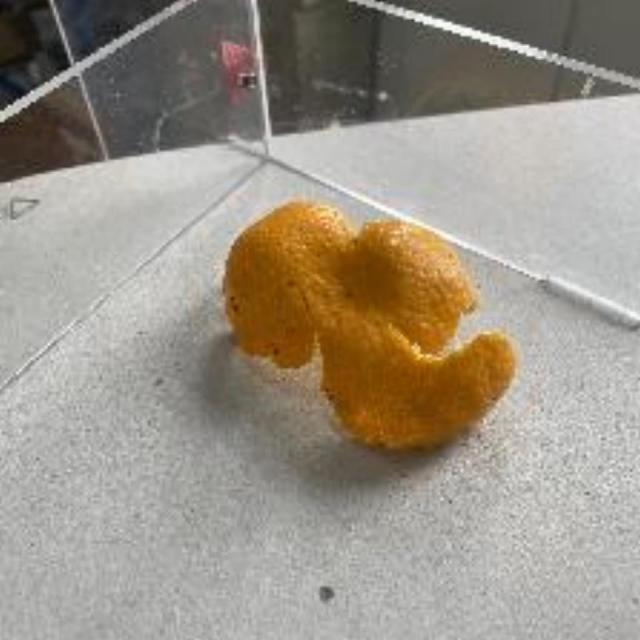orange peel: (218, 196, 520, 459)
